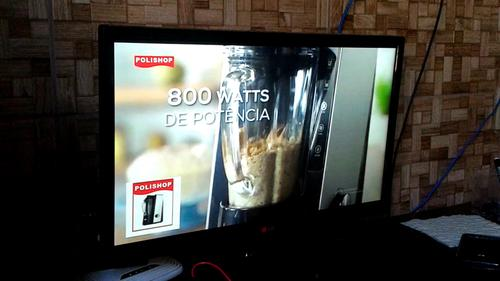Polishop #1: (126, 175, 182, 238)
